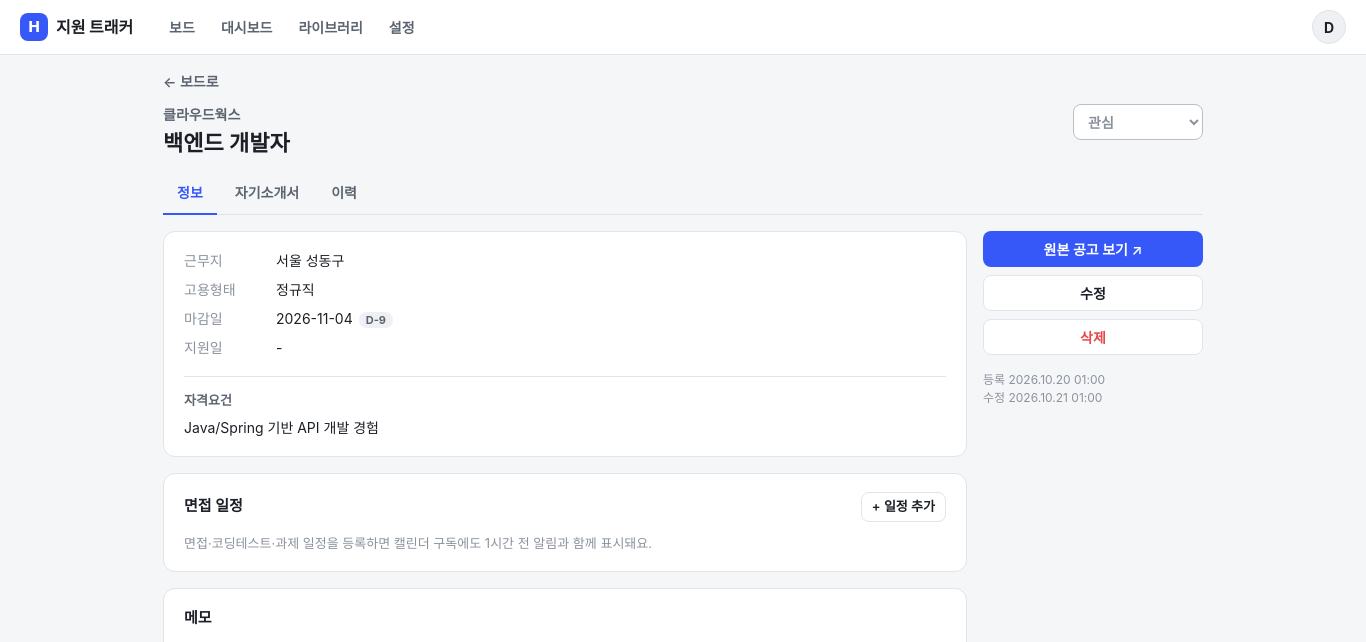
Test: 공고 상세 › 탭을 바꾸면 주소에 남기고, 이력 탭은 되돌린 변경을 따로 표시한다
The width and height of the screenshot is (1366, 642).
Click the tab "이력": x=344, y=194 top-left (317, 172), bottom-right (371, 215)
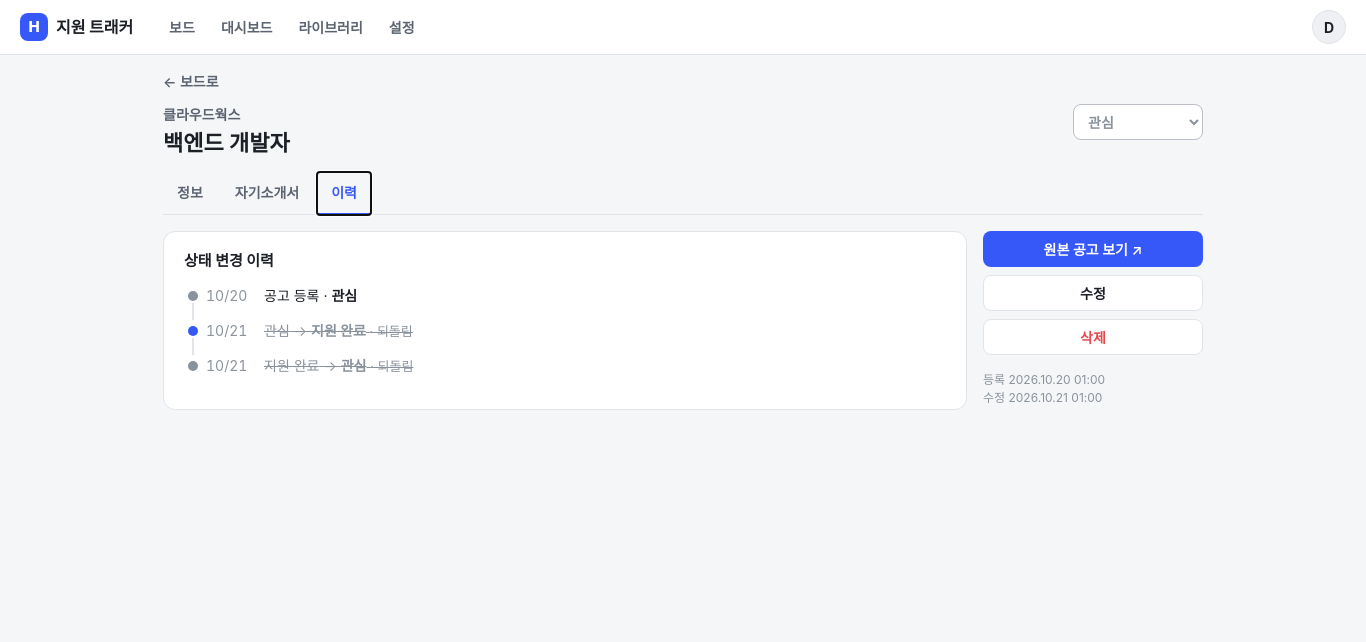
Check: the list item "10/20 공고 등록 · 관심" is shown, box top-left (206, 286), bottom-right (357, 304)
Check: the list item "10/21 관심 → 지원 완료 · 되돌림" is shown, box top-left (206, 322), bottom-right (413, 338)
